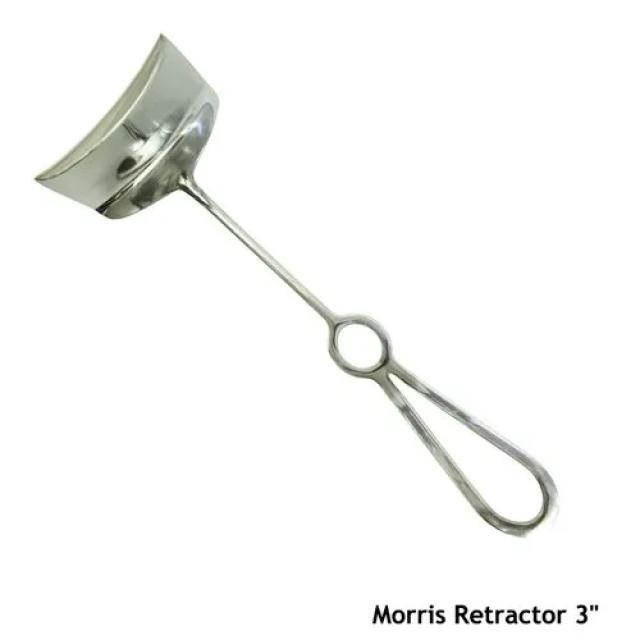Morris Retractor: (28, 32, 568, 546)
